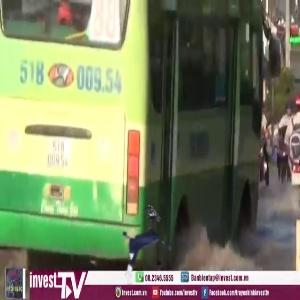drone: (111, 218, 180, 287)
